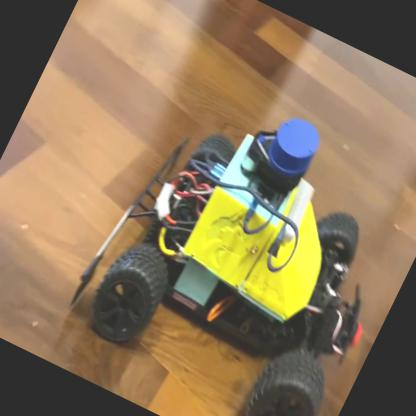mushr_car: (47, 59, 415, 415)
